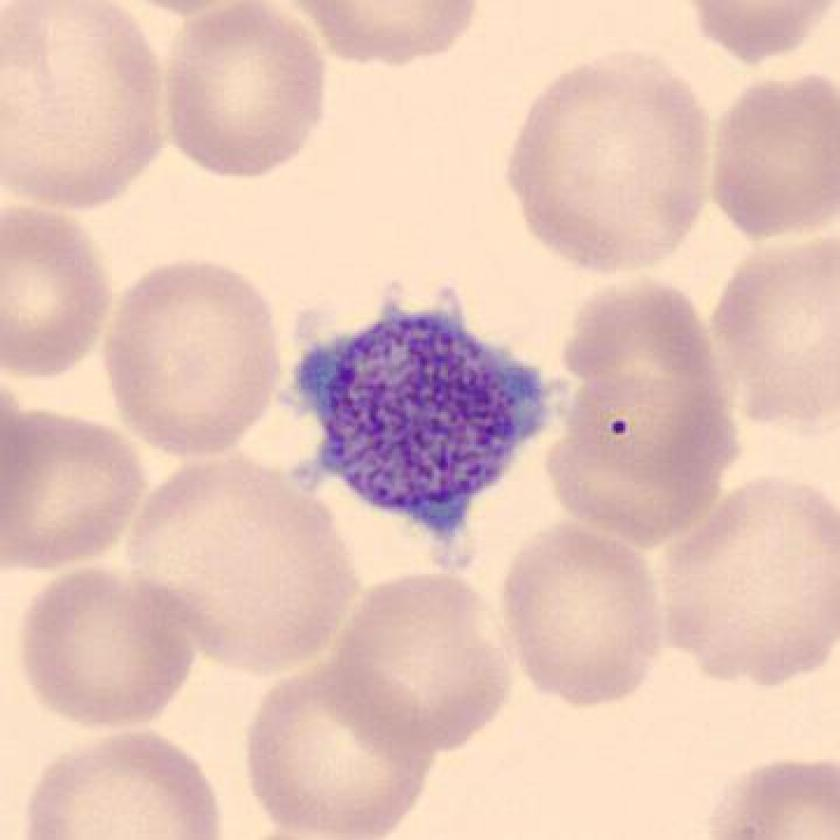platelets: (272, 281, 561, 542)
